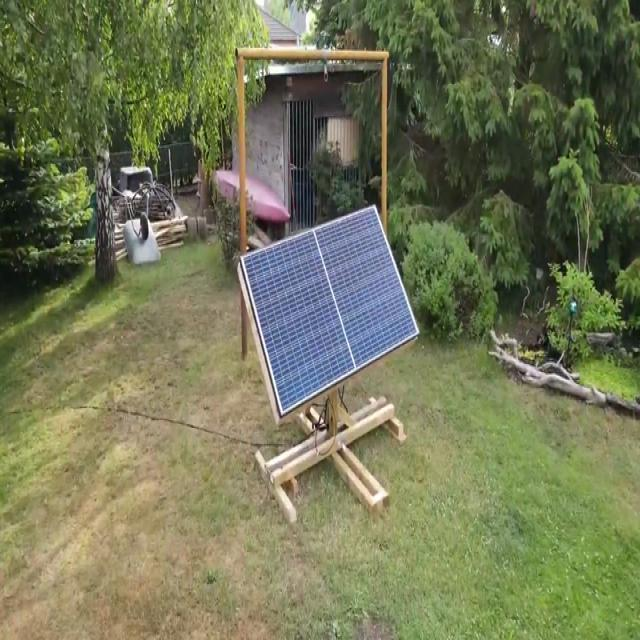Normal Solar Panel: (241, 207, 419, 419)
